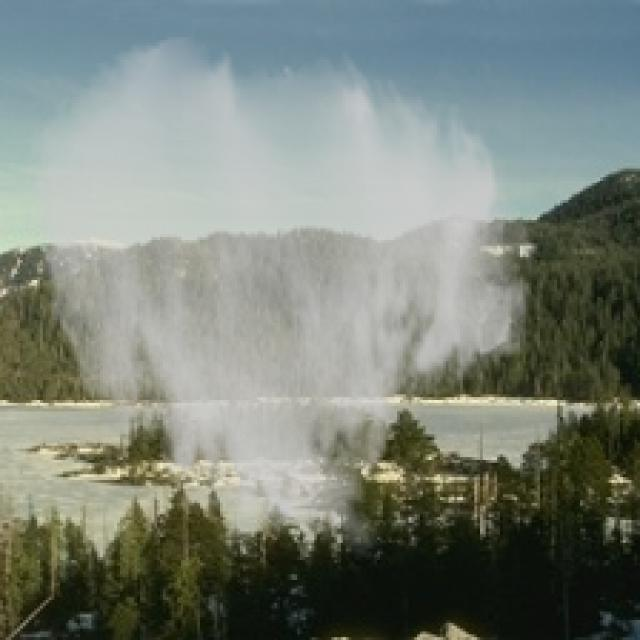Smoke: (20, 31, 537, 560)
